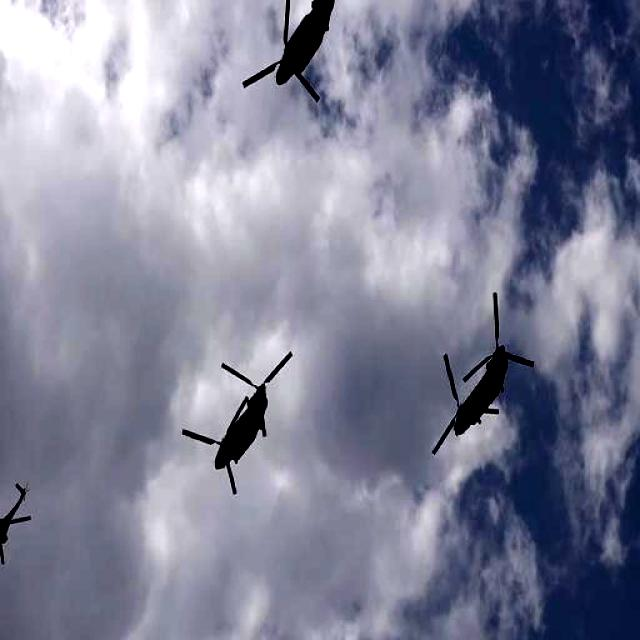drone: (429, 285, 540, 462), (180, 344, 298, 498), (239, 0, 375, 105), (0, 469, 39, 570)
